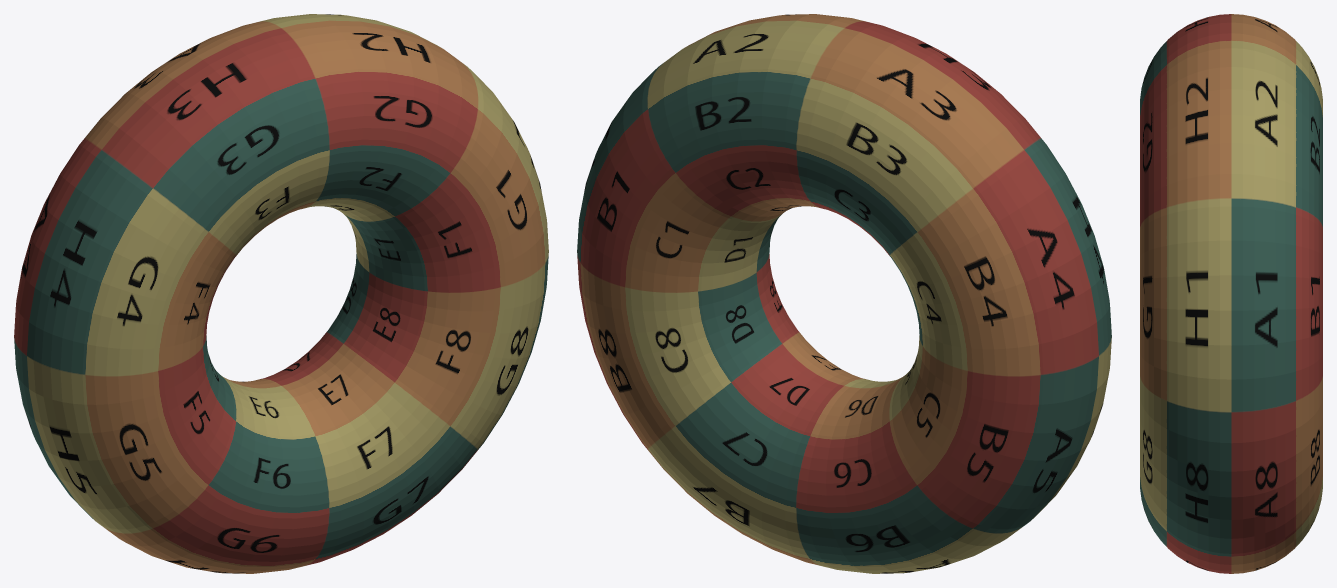
The model's file is texture_torus_R15_r29.glb.
3 views of the same model, side by side, from view 1: azimuth 30°, elevation 25°; view 2: azimuth 150°, elevation 25°; view 3: azimuth 270°, elevation 25° (orthographic). The views are drawn at different scales.
Visible parts, largest first — view 1: world; view 2: world; view 3: world.
Boxes of the visible parts, x1,y1,x2,y2 form: world: [14, 14, 548, 573]; world: [577, 14, 1111, 573]; world: [1140, 14, 1322, 573].
Size of the model in its own units: 29.73 by 29.67 by 9.71.
Materials: 1 (1 with a texture image).
